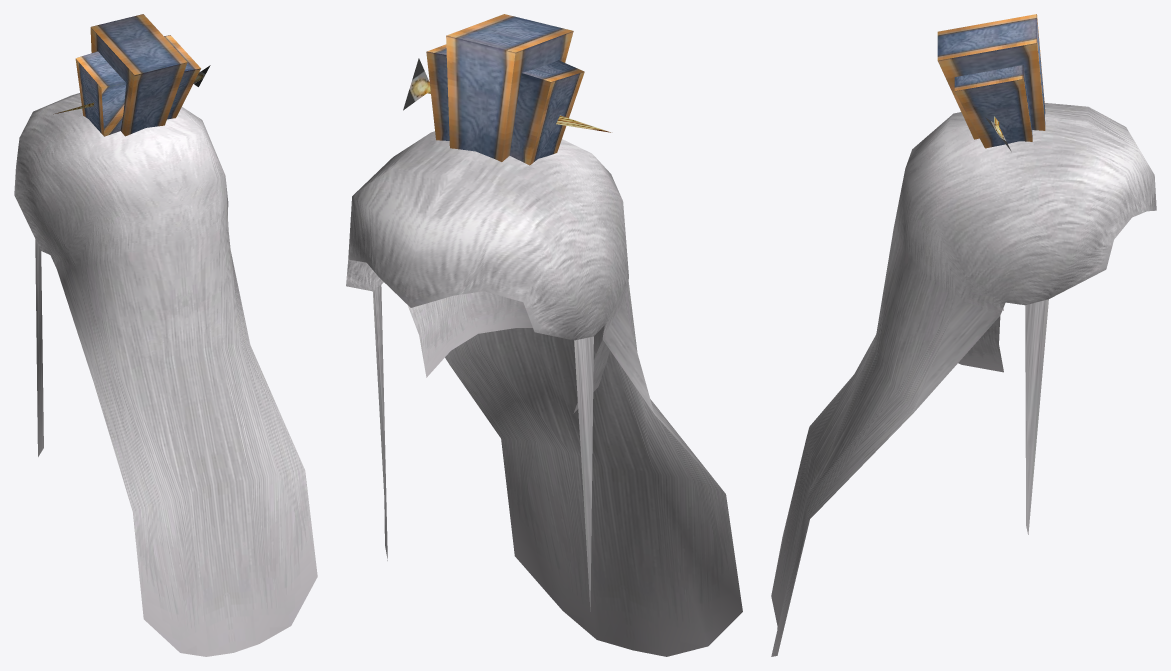
The model's file is Martial arts male hair 59.glb.
3 renders of one model, left to right at view 1: azimuth 30°, elevation 25°; view 2: azimuth 150°, elevation 25°; view 3: azimuth 270°, elevation 25°, orthographic. The views are drawn at different scales.
Parts seen in each view (by area): view 1: 武侠男头发59_0, 武侠男头发59_2; view 2: 武侠男头发59_0, 武侠男头发59_2, 武侠男头发59_1; view 3: 武侠男头发59_0, 武侠男头发59_2.
Part boxes in pixels (x1,y1,x2,y2): 武侠男头发59_0: (14, 93, 317, 656); 武侠男头发59_2: (75, 14, 200, 136); 武侠男头发59_0: (346, 131, 742, 656); 武侠男头发59_2: (426, 14, 584, 165); 武侠男头发59_1: (403, 58, 610, 132); 武侠男头发59_0: (771, 103, 1156, 656); 武侠男头发59_2: (937, 14, 1045, 148).
Bounding box in the file's own units: 0.1678 × 0.5006 × 0.2845.
3 materials, 3 textured.
